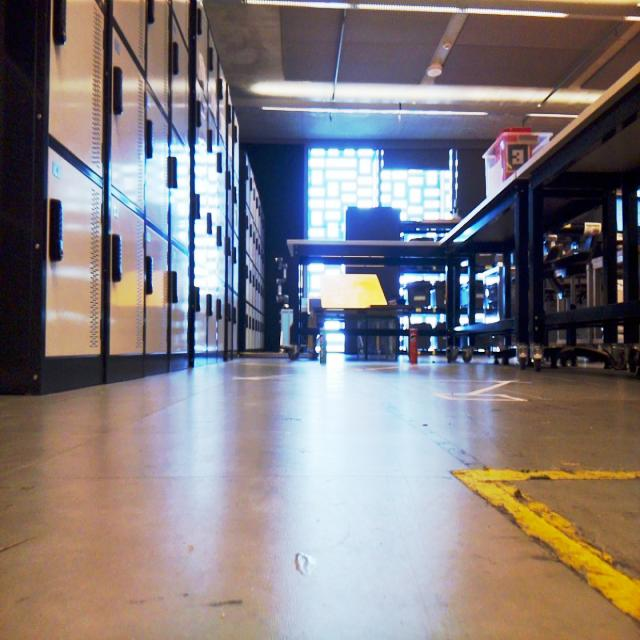greenpringles: (314, 317, 334, 370)
redpringles: (405, 320, 423, 367)
